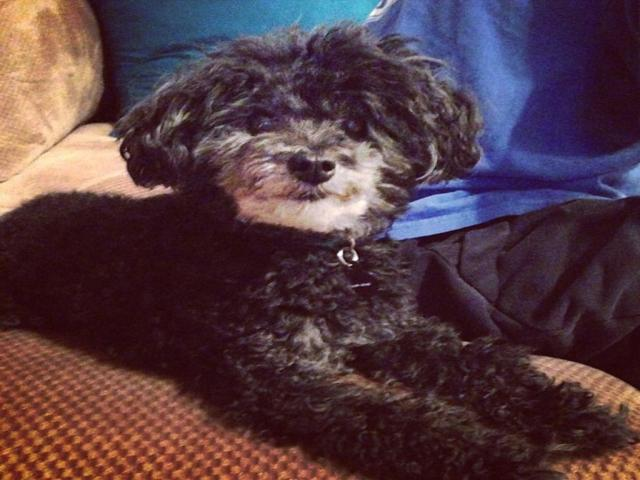Dog: (0, 17, 639, 479)
